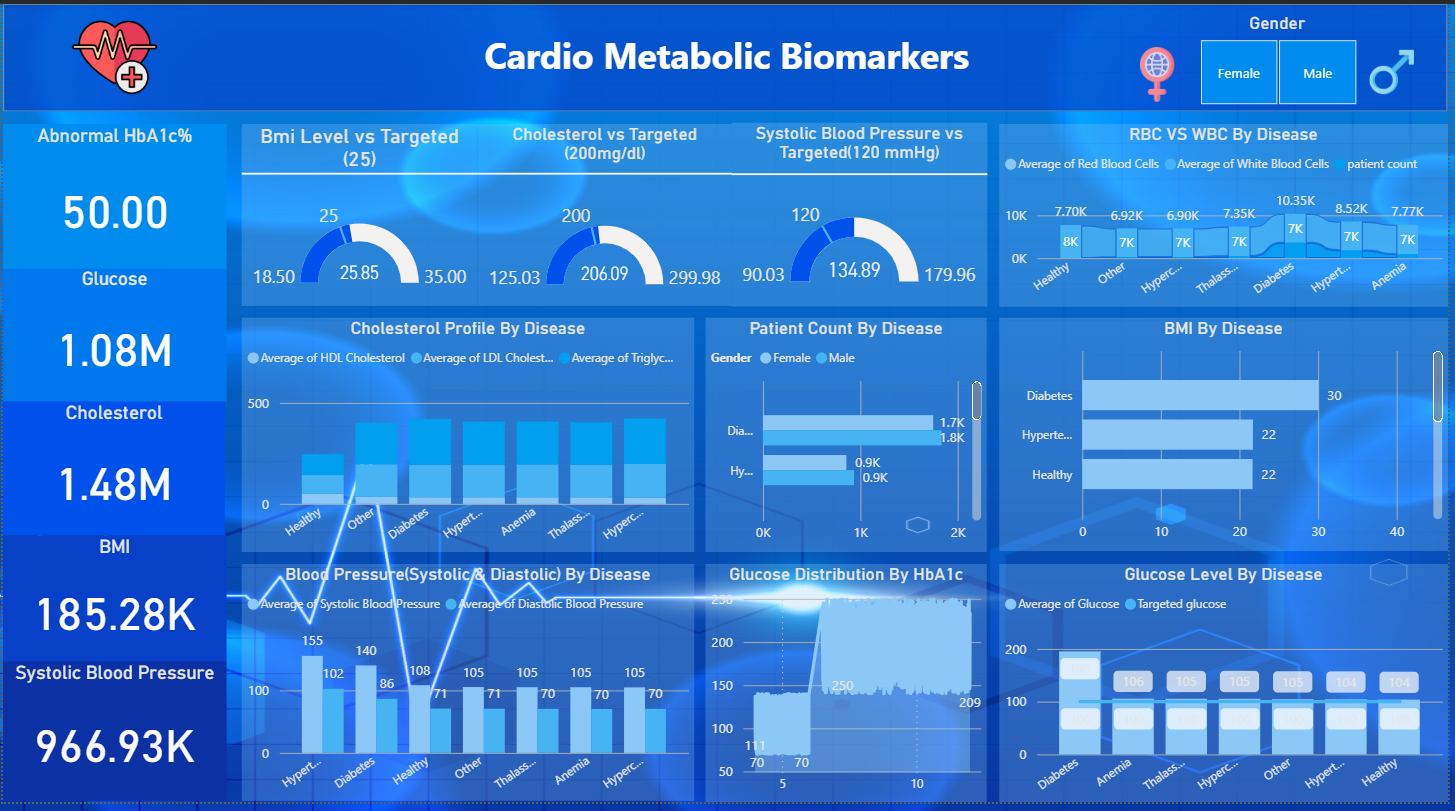

The dashboard page shown, as its layout file describes it:
{"tool":"powerbi","page":{"name":"Page 1","canvas":[1303,720],"ordinal":0},"visuals":[{"type":"shape","box":[0,0,1302.4,97],"z":0},{"type":"slicer","title":"Gender","fields":{"Values":["Cardio_Metabolic_Biomarkers.Gender"]},"box":[1053.6,7.5,190.3,89.6],"z":1000},{"type":"card","title":"Glucose","fields":{"Values":["Sum(Cardio_Metabolic_Biomarkers.Glucose)"]},"box":[0,237.6,201.5,120.7],"z":2000},{"type":"card","title":"Cholesterol","fields":{"Values":["Sum(Cardio_Metabolic_Biomarkers.Cholesterol)"]},"box":[0,358.3,200.3,120.7],"z":3000},{"type":"card","title":"BMI","fields":{"Values":["Sum(Cardio_Metabolic_Biomarkers.BMI)"]},"box":[0,478.9,201.5,114.4],"z":4000},{"type":"card","title":"Systolic Blood Pressure","fields":{"Values":["Sum(Cardio_Metabolic_Biomarkers.Systolic Blood Pressure)"]},"box":[0,593.4,201.5,125.6],"z":5000},{"type":"card","title":"Abnormal HbA1c%","fields":{"Values":["Cardio_Metabolic_Biomarkers.Abnormal HbA1c %"]},"box":[0,108.2,201.5,130.6],"z":6000},{"type":"lineClusteredColumnComboChart","title":" Glucose Level By Disease","fields":{"Y":["Avg(Cardio_Metabolic_Biomarkers.Glucose)"],"Category":["Cardio_Metabolic_Biomarkers.MainDisease"],"Y2":["Cardio_Metabolic_Biomarkers.Targeted glucose"]},"box":[898.3,504.9,404.6,215.3],"z":7000},{"type":"gauge","title":"Bmi Level vs Targeted                                                  (25)","fields":{"Y":["Avg(Cardio_Metabolic_Biomarkers.BMI)"],"MinValue":["Min(Cardio_Metabolic_Biomarkers.BMI)"],"MaxValue":["Max(Cardio_Metabolic_Biomarkers.BMI)"],"TargetValue":["Cardio_Metabolic_Biomarkers.Targeted BMI"]},"box":[215.2,108.2,212.7,164.2],"z":8000},{"type":"clusteredColumnChart","title":" Blood Pressure(Systolic & Diastolic) By Disease","fields":{"Y":["Avg(Cardio_Metabolic_Biomarkers.Systolic Blood Pressure)","Avg(Cardio_Metabolic_Biomarkers.Diastolic Blood Pressure)"],"Category":["Cardio_Metabolic_Biomarkers.MainDisease"]},"box":[215.2,505,408,214],"z":9000},{"type":"gauge","title":"Systolic Blood Pressure vs Targeted(120 mmHg)","fields":{"Y":["Avg(Cardio_Metabolic_Biomarkers.Systolic Blood Pressure)"],"MinValue":["Min(Cardio_Metabolic_Biomarkers.Systolic Blood Pressure)1"],"MaxValue":["Max(Cardio_Metabolic_Biomarkers.Systolic Blood Pressure)2"],"TargetValue":["Cardio_Metabolic_Biomarkers.target BP"]},"box":[656.8,107,230.1,165.4],"z":10000},{"type":"gauge","title":" Cholesterol vs Targeted (200mg/dl)","fields":{"Y":["Avg(Cardio_Metabolic_Biomarkers.Cholesterol)"],"MinValue":["Min(Cardio_Metabolic_Biomarkers.Cholesterol)1"],"MaxValue":["Max(Cardio_Metabolic_Biomarkers.Cholesterol)2"],"TargetValue":["Cardio_Metabolic_Biomarkers.Targeted Cholosterol"]},"box":[427.9,108.2,228.9,164.2],"z":11000},{"type":"textbox","box":[215.2,18.7,874.5,59.7],"z":12000},{"type":"columnChart","title":" Cholesterol Profile By Disease","fields":{"Category":["Cardio_Metabolic_Biomarkers.MainDisease"],"Y":["Avg(Cardio_Metabolic_Biomarkers.HDL Cholesterol)","Avg(Cardio_Metabolic_Biomarkers.LDL Cholesterol)","Avg(Cardio_Metabolic_Biomarkers.Triglycerides)"]},"box":[215.2,282.4,408,211.5],"z":13000},{"type":"clusteredBarChart","title":"BMI By Disease","fields":{"Y":["Avg(Cardio_Metabolic_Biomarkers.BMI)"],"Category":["Cardio_Metabolic_Biomarkers.MainDisease"]},"box":[898.3,282.9,404.6,210.8],"z":14000},{"type":"clusteredBarChart","title":"Patient Count By Disease ","fields":{"Category":["Cardio_Metabolic_Biomarkers.MainDisease"],"Y":["Cardio_Metabolic_Biomarkers.patient count"],"Series":["Cardio_Metabolic_Biomarkers.Gender"]},"box":[633.2,282.4,253.8,211.5],"z":15000},{"type":"stackedAreaChart","title":" Glucose Distribution By HbA1c","fields":{"Y":["Avg(Cardio_Metabolic_Biomarkers.Glucose)"],"Category":["Cardio_Metabolic_Biomarkers.HbA1c"]},"box":[633.2,505,253.8,215.2],"z":16000},{"type":"ribbonChart","title":"RBC VS WBC By Disease","fields":{"Category":["Cardio_Metabolic_Biomarkers.MainDisease"],"Y":["Avg(Cardio_Metabolic_Biomarkers.Red Blood Cells)","Avg(Cardio_Metabolic_Biomarkers.White Blood Cells)","Cardio_Metabolic_Biomarkers.patient count"]},"box":[898.3,108.2,404.6,164.6],"z":17000},{"type":"image","box":[1227.8,29.9,49.8,63.4],"z":17001},{"type":"image","box":[1011.3,31.1,59.7,63.4],"z":17002},{"type":"image","box":[3.7,5,194.1,87.1],"z":17003}]}

Visuals, with their boxes in screenshot pixels (x1, y1, x2, y2), scaled from the page's 1303x720 canvas onto the 1455x811 screenshot:
shape: select_region(0, 0, 1454, 109)
"Gender" slicer: select_region(1177, 8, 1389, 109)
"Glucose" card: select_region(0, 268, 225, 404)
"Cholesterol" card: select_region(0, 404, 224, 540)
"BMI" card: select_region(0, 539, 225, 668)
"Systolic Blood Pressure" card: select_region(0, 668, 225, 810)
"Abnormal HbA1c%" card: select_region(0, 122, 225, 269)
" Glucose Level By Disease" lineClusteredColumnComboChart: select_region(1003, 569, 1454, 810)
"Bmi Level vs Targeted                                                  (25)" gauge: select_region(240, 122, 478, 307)
" Blood Pressure(Systolic & Diastolic) By Disease" clusteredColumnChart: select_region(240, 569, 696, 810)
"Systolic Blood Pressure vs Targeted(120 mmHg)" gauge: select_region(733, 121, 990, 307)
" Cholesterol vs Targeted (200mg/dl)" gauge: select_region(478, 122, 733, 307)
textbox: select_region(240, 21, 1217, 88)
" Cholesterol Profile By Disease" columnChart: select_region(240, 318, 696, 556)
"BMI By Disease" clusteredBarChart: select_region(1003, 319, 1454, 556)
"Patient Count By Disease " clusteredBarChart: select_region(707, 318, 990, 556)
" Glucose Distribution By HbA1c" stackedAreaChart: select_region(707, 569, 990, 810)
"RBC VS WBC By Disease" ribbonChart: select_region(1003, 122, 1454, 307)
image: select_region(1371, 34, 1427, 105)
image: select_region(1129, 35, 1196, 106)
image: select_region(4, 6, 221, 104)
